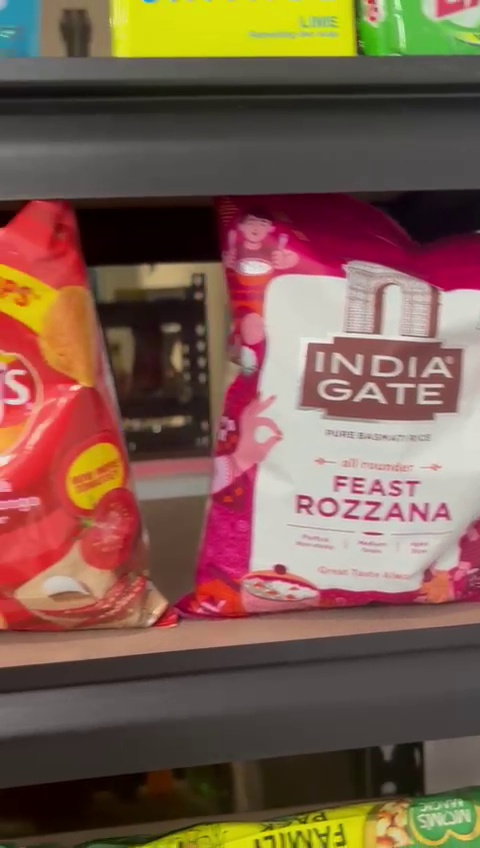India Gate Feast Rozzana: (215, 196, 480, 619)
